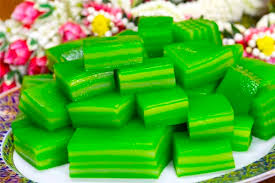kanomchan: (66, 114, 173, 183), (51, 56, 140, 133), (10, 114, 92, 173), (162, 36, 240, 95), (186, 87, 241, 146), (80, 31, 149, 76), (116, 54, 183, 99)
